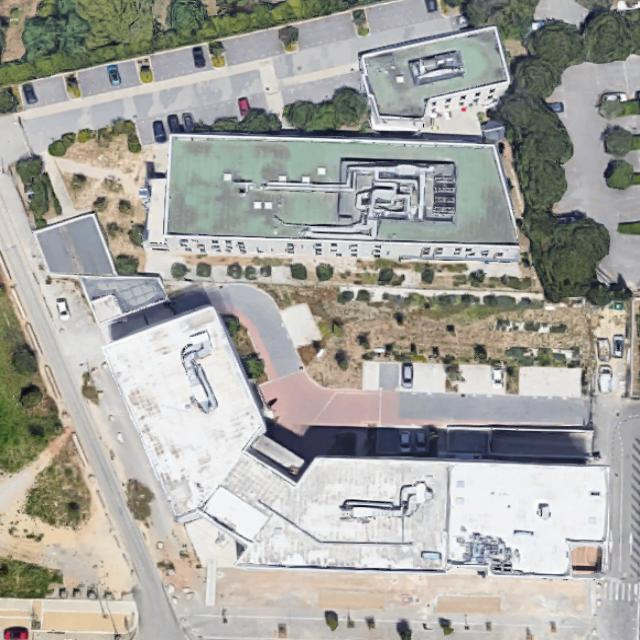immeuble: (192, 435, 613, 593), (146, 134, 519, 260), (98, 298, 287, 518), (19, 192, 175, 347), (354, 19, 516, 147)
